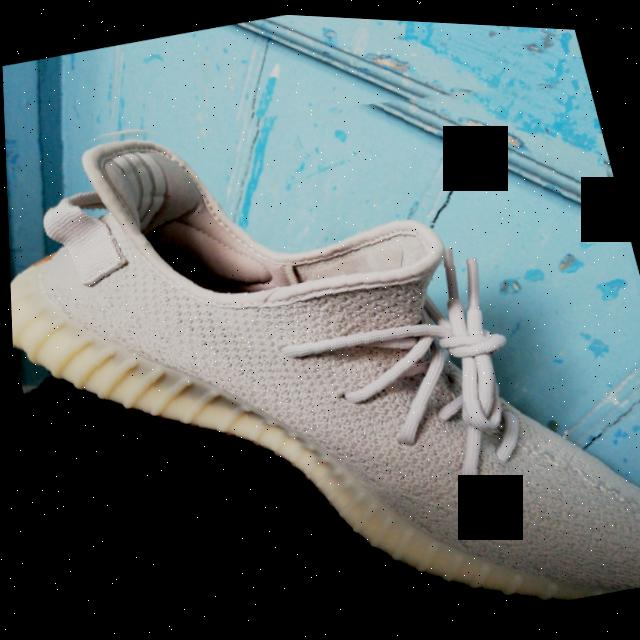shoe: (0, 12, 640, 640)
